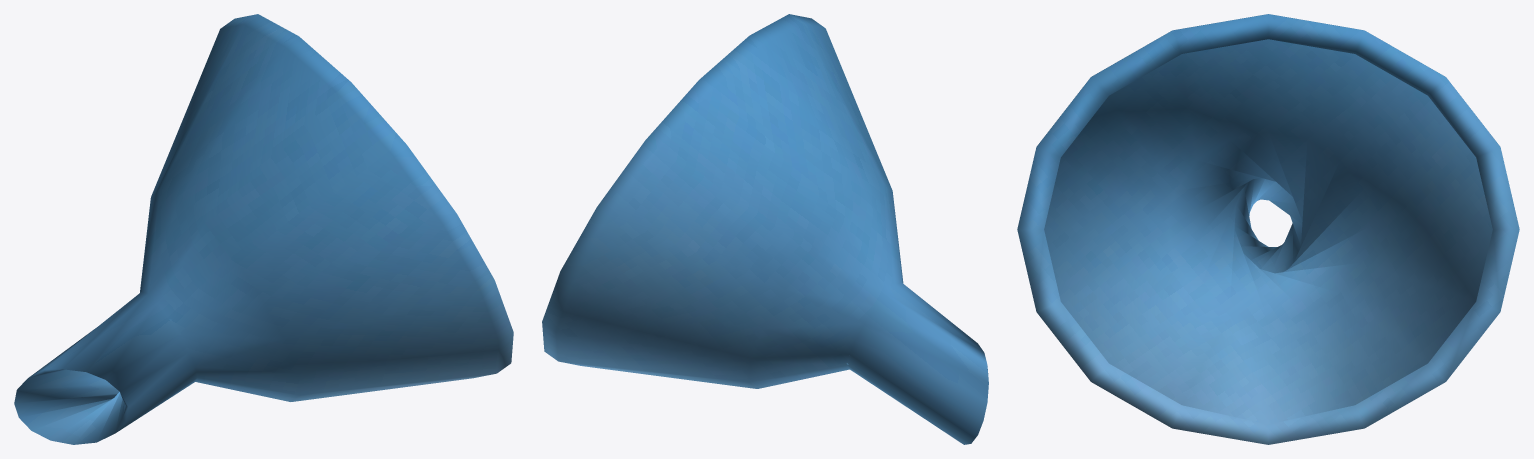
The model's file is WorldItem_HCFunnel.fbx.
3 renders of one model, left to right at view 1: azimuth 30°, elevation 25°; view 2: azimuth 150°, elevation 25°; view 3: azimuth 270°, elevation 25°, orthographic. The views are drawn at different scales.
Visible parts, largest first — view 1: Funnel; view 2: Funnel; view 3: Funnel.
Boxes of the visible parts, box(x1,y1,x2,y2) form: Funnel: box(14, 14, 513, 444); Funnel: box(542, 14, 988, 444); Funnel: box(1017, 14, 1519, 444).
Size of the model in its own units: 0.1234 by 0.1026 by 0.1263.
